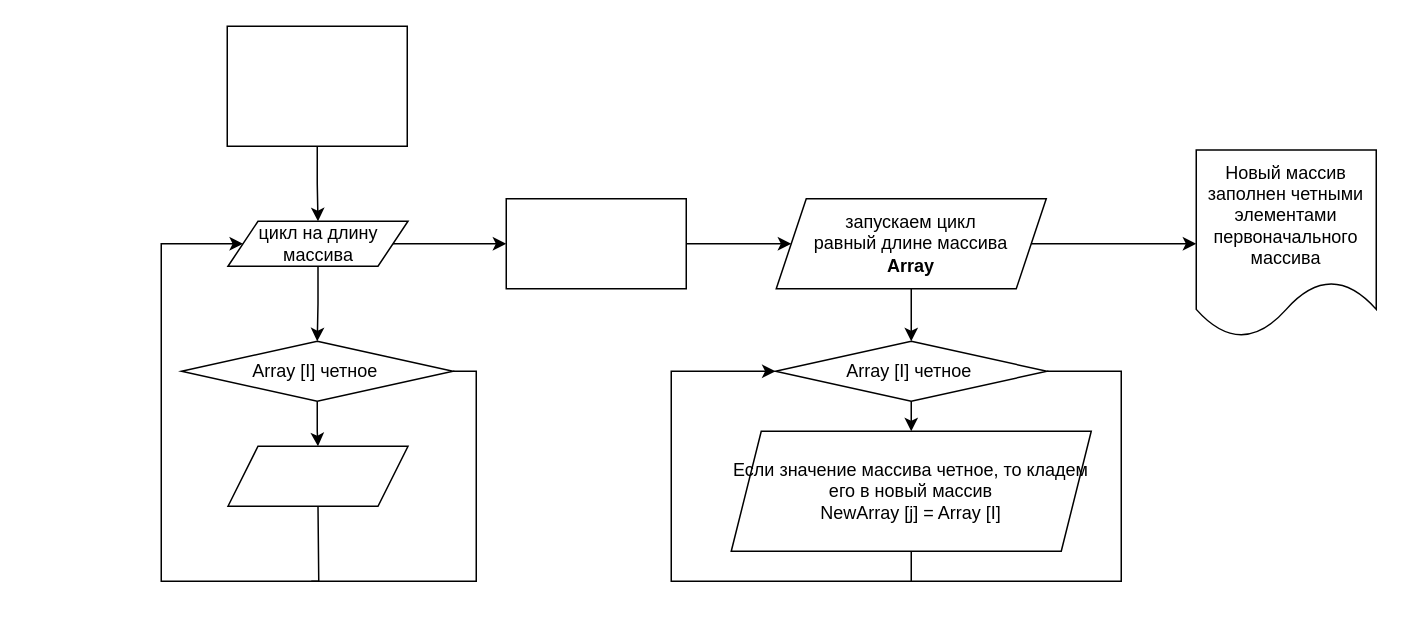
Image size: 1403x620. Some labels were removed from this diagram. Here are the shapes that lost their labels. From the top down, the box of each, then its label:
(226, 25, 407, 146): создается массив целых чисел определенной длины Array
(505, 197, 686, 289): формируем новый массив длиной равной счетчику NewArray
(226, 445, 408, 506): счетчик = +1
